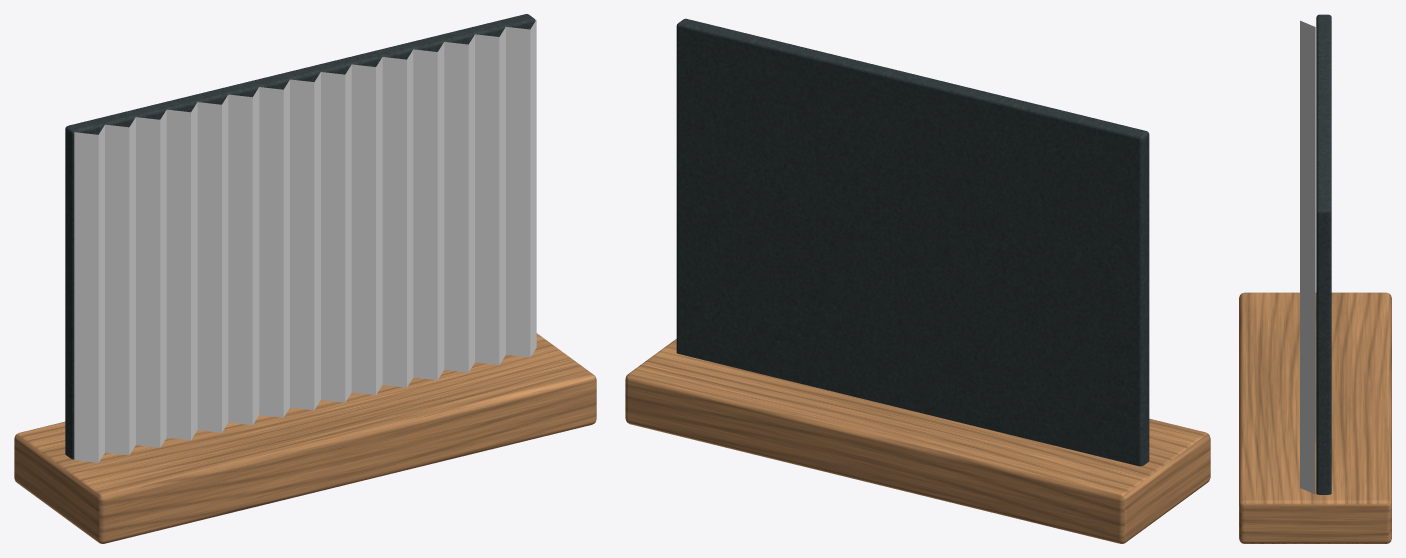
File: preview.glb
The picture shows the model from 3 angles, left to right: view 1: azimuth 30°, elevation 25°; view 2: azimuth 150°, elevation 25°; view 3: azimuth 270°, elevation 25°; orthographic projection. The views are drawn at different scales.
Parts seen in each view (by area): view 1: Mat_Print1, AngleFold, Mat_Print2; view 2: AngleFold; view 3: AngleFold, Mat_Print2.
Part boxes in pixels (left/top/right/bottom): Mat_Print1: left=74, top=27, right=530, bottom=462; AngleFold: left=14, top=14, right=596, bottom=543; Mat_Print2: left=98, top=20, right=536, bottom=462; AngleFold: left=625, top=18, right=1210, bottom=543; AngleFold: left=1239, top=14, right=1391, bottom=543; Mat_Print2: left=1300, top=20, right=1315, bottom=493.
Size of the model in its own units: 0.291 by 0.211 by 0.089.
Materials: 4 (2 with a texture image).
